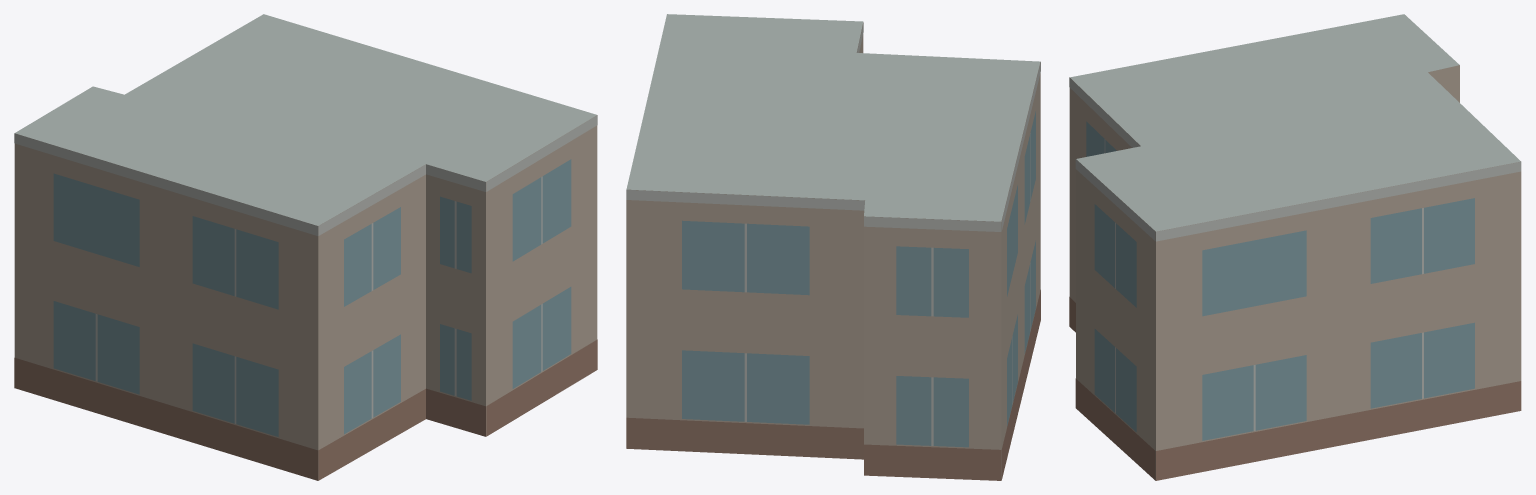
Rendered from survey-upis-32515277.glb.
3 views of the same model, side by side, from view 1: azimuth 30°, elevation 25°; view 2: azimuth 150°, elevation 25°; view 3: azimuth 270°, elevation 25° (orthographic). The views are drawn at different scales.
Parts seen in each view (by area): view 1: survey-upis-32515277.tmp; view 2: survey-upis-32515277.tmp; view 3: survey-upis-32515277.tmp.
Boxes of the visible parts, x1,y1,x2,y2 form: survey-upis-32515277.tmp: [14, 14, 597, 480]; survey-upis-32515277.tmp: [626, 14, 1040, 480]; survey-upis-32515277.tmp: [1069, 14, 1521, 480].
Bounding box in the file's own units: 11.43 × 6.1 × 10.03.
